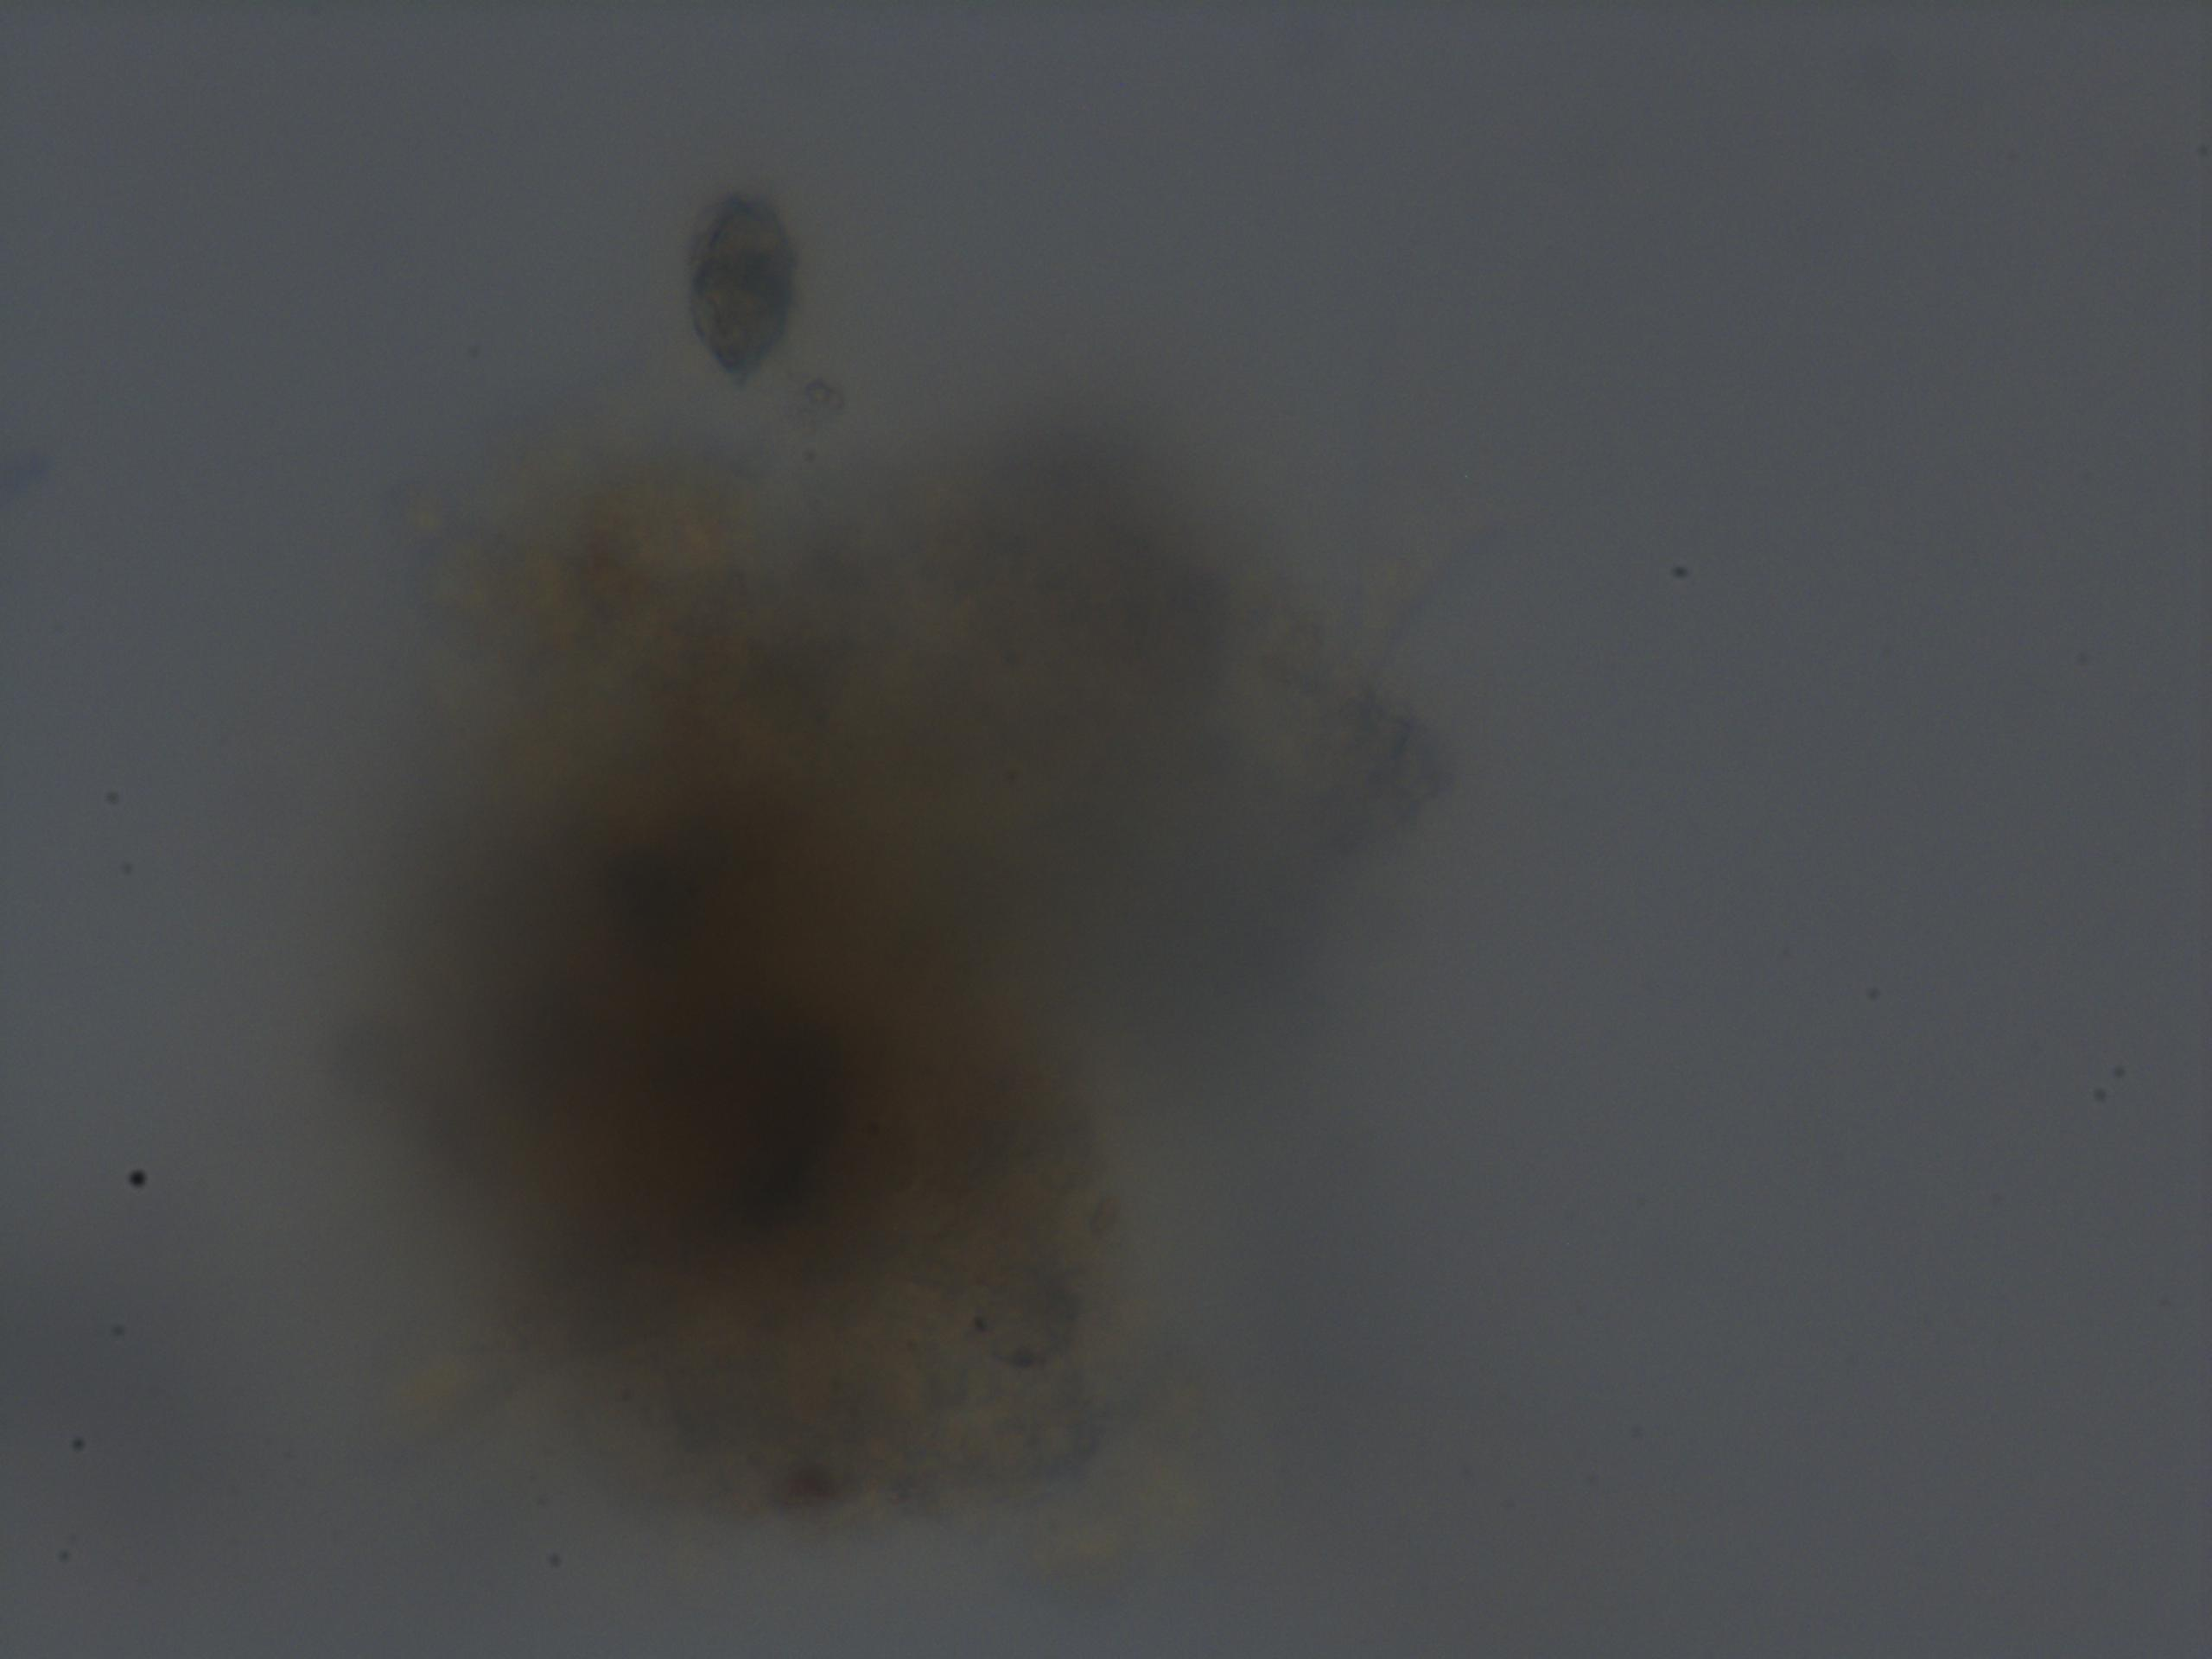spherical_floc: (348, 481, 1165, 1535)
